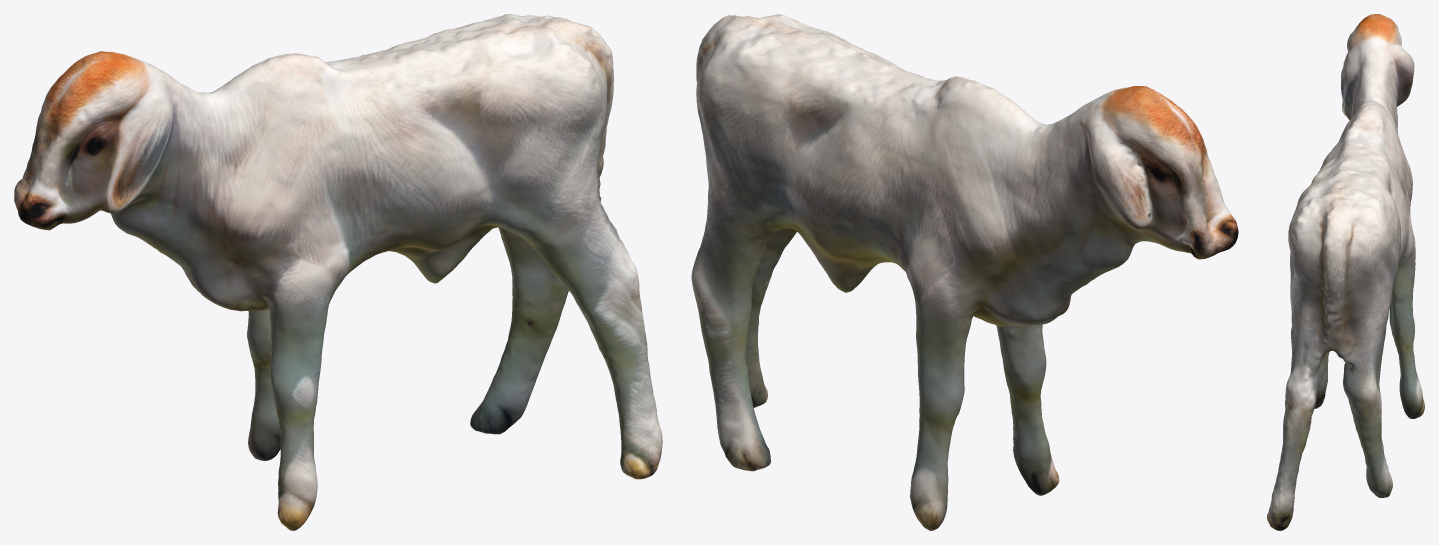
The model's file is bebe.glb.
3 views of the same model, side by side, from view 1: azimuth 30°, elevation 25°; view 2: azimuth 150°, elevation 25°; view 3: azimuth 270°, elevation 25° (orthographic). The views are drawn at different scales.
Visible parts, largest first — view 1: mesh; view 2: mesh; view 3: mesh.
Part boxes in pixels (x1,y1,x2,y2): mesh: (14, 14, 662, 530); mesh: (691, 14, 1238, 530); mesh: (1267, 14, 1424, 530).
Bounding box in the file's own units: 1.56 × 1.26 × 0.5171.
Materials: 1 (1 with a texture image).
